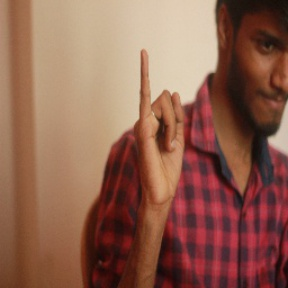I: (128, 44, 193, 205)
